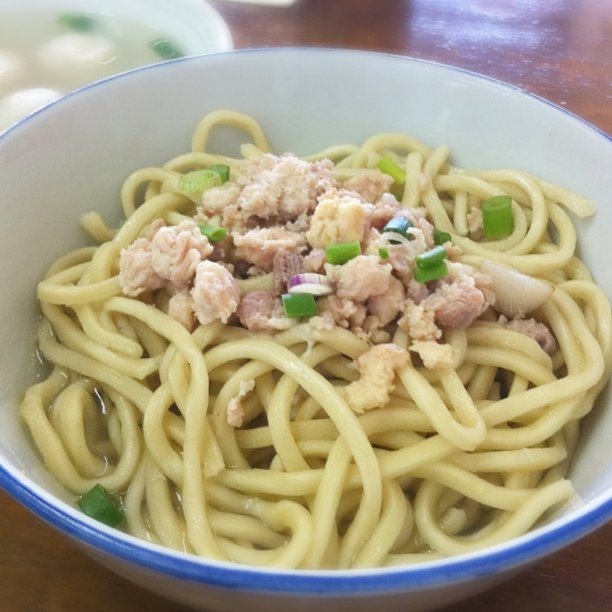plain spaghetti: (39, 120, 589, 572)
